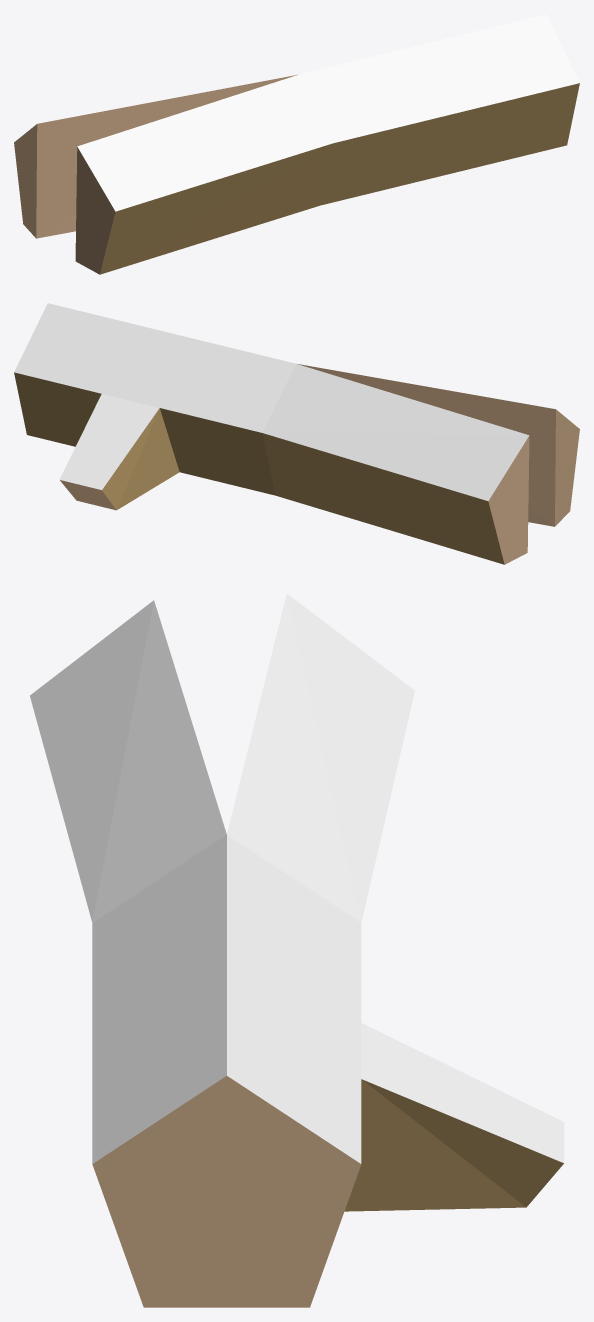
Rendered from Oak_Firewood_Snow_03_LOD.fbx.
The picture shows the model from 3 angles, top to bottom: view 1: azimuth 30°, elevation 25°; view 2: azimuth 150°, elevation 25°; view 3: azimuth 270°, elevation 25°; orthographic projection. The views are drawn at different scales.
Parts seen in each view (by area): view 1: Oak_Firewood_Snow_03_LOD0; view 2: Oak_Firewood_Snow_03_LOD0; view 3: Oak_Firewood_Snow_03_LOD0.
Boxes of the visible parts, left/top/right/bottom form: Oak_Firewood_Snow_03_LOD0: left=14, top=14, right=579, bottom=274; Oak_Firewood_Snow_03_LOD0: left=14, top=303, right=579, bottom=564; Oak_Firewood_Snow_03_LOD0: left=30, top=593, right=564, bottom=1307.
Size of what is drawn, in the model's own units: 56 by 12.61 by 26.23.
